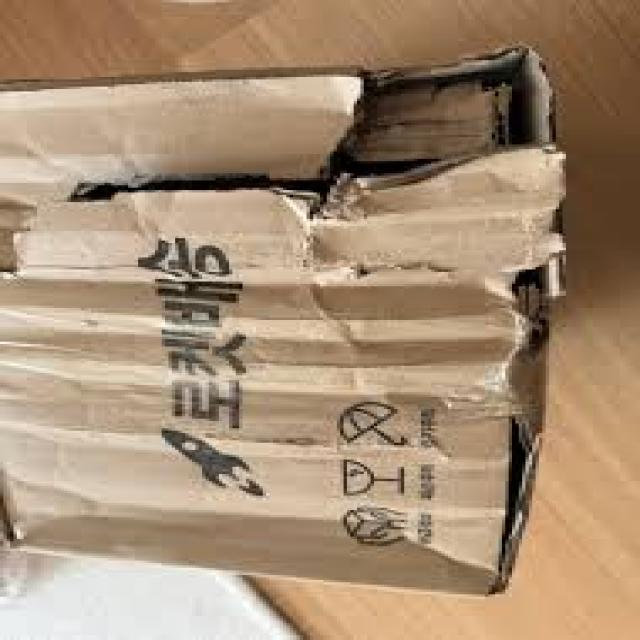box: (1, 40, 568, 601)
crushed: (4, 269, 506, 468)
tear: (1, 44, 567, 291), (487, 268, 563, 596)
